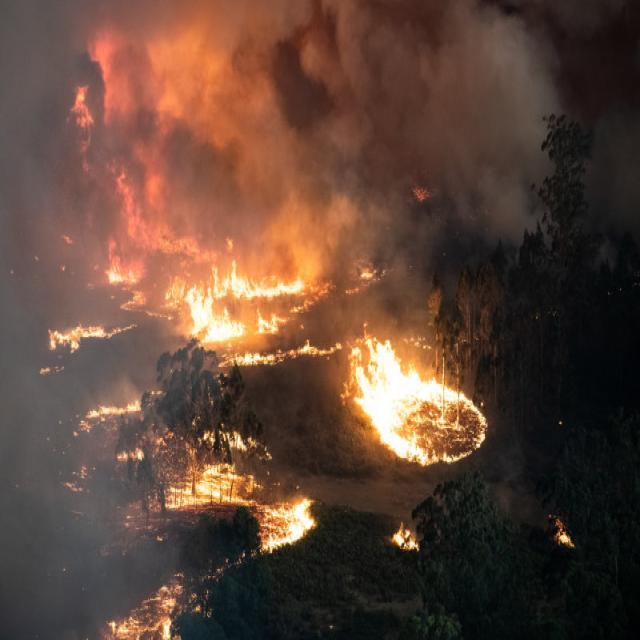Fire: (342, 322, 490, 466), (163, 260, 334, 342), (98, 157, 165, 316), (104, 562, 225, 640), (234, 496, 316, 566), (162, 462, 272, 514), (202, 422, 272, 460), (46, 318, 138, 346), (222, 342, 342, 362), (349, 254, 389, 288), (88, 396, 142, 420), (72, 86, 95, 140), (548, 510, 576, 550), (388, 522, 420, 554), (112, 441, 145, 464), (151, 526, 167, 546), (79, 457, 89, 485), (70, 336, 79, 356), (210, 263, 218, 279), (479, 398, 486, 416), (364, 331, 369, 354), (60, 558, 66, 571), (405, 528, 410, 539)
Smoke: (448, 0, 580, 279), (472, 151, 563, 261), (339, 0, 376, 105)
